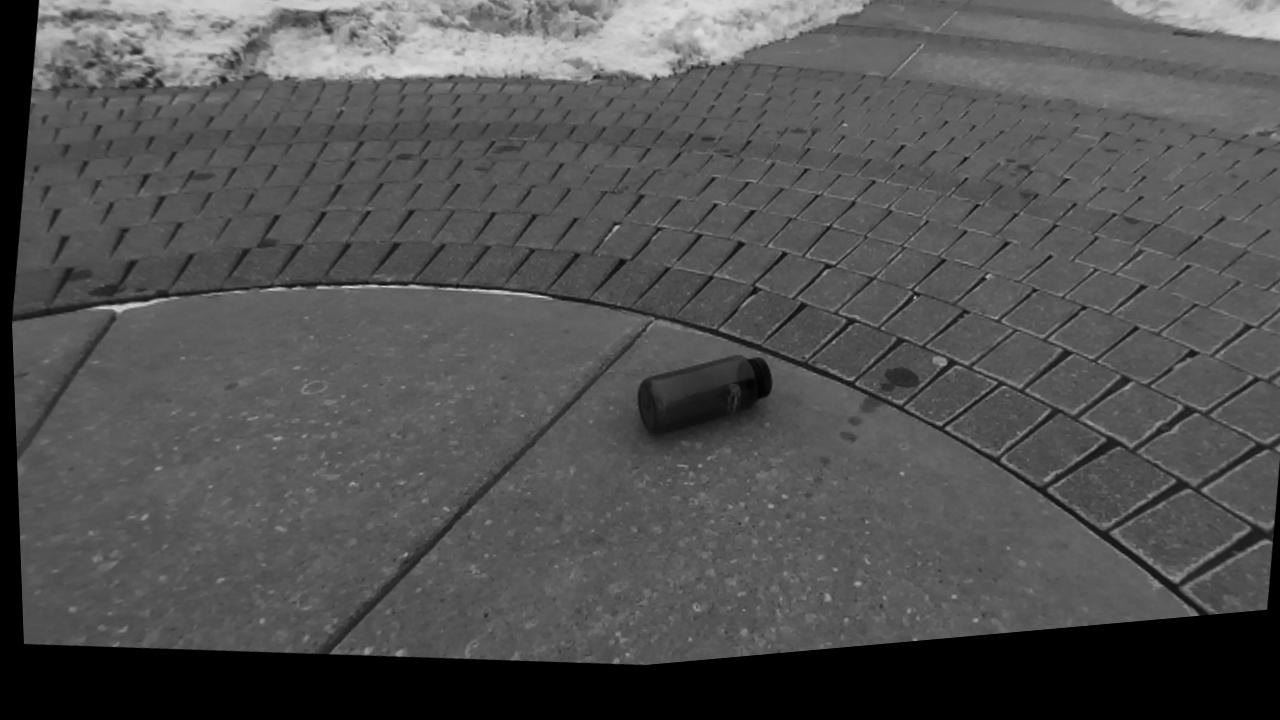bottle: (639, 356, 772, 434)
